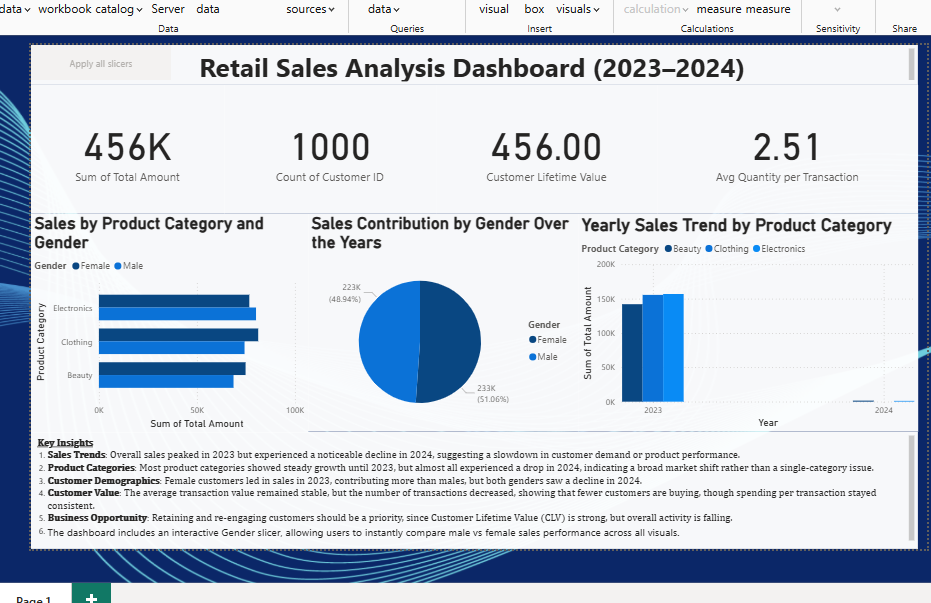

The page's visual inventory and layout, read from the dashboard file:
{"tool":"powerbi","page":{"name":"Page 1","canvas":[1280,720],"ordinal":0},"visuals":[{"type":"textbox","box":[0,0,1267.1,57.1],"z":0},{"type":"card","fields":{"Values":["Sum(retail_sales_clean.Total Amount)"]},"box":[0,57.1,275.7,184.3],"z":1000},{"type":"card","fields":{"Values":["CountNonNull(retail_sales_clean.Customer ID)"]},"box":[275.7,57.1,302.9,184.3],"z":2000},{"type":"clusteredColumnChart","title":"Yearly Sales Trend by Product Category","fields":{"Category":["retail_sales_clean.Year"],"Y":["Sum(retail_sales_clean.Total Amount)"],"Series":["retail_sales_clean.Product Category"]},"box":[781.4,241.4,485.7,311.4],"z":3000},{"type":"clusteredBarChart","title":"Sales by Product Category and Gender","fields":{"Y":["Sum(retail_sales_clean.Total Amount)"],"Category":["retail_sales_clean.Product Category"],"Series":["retail_sales_clean.Gender"]},"box":[0,241,396,312],"z":4000},{"type":"pieChart","title":"Sales Contribution by Gender Over the Years","fields":{"Y":["Sum(retail_sales_clean.Total Amount)"],"Category":["retail_sales_clean.Gender"]},"box":[395.7,241.4,385.7,311.4],"z":5000},{"type":"actionButton","box":[0,0,100,40],"z":6000},{"type":"card","fields":{"Values":["retail_sales_clean.Avg Quantity per Transaction"]},"box":[894.3,57.1,372.9,184.3],"z":7000},{"type":"card","fields":{"Values":["retail_sales_clean.Customer Lifetime Value"]},"box":[578.6,57.1,315.7,184.3],"z":8000},{"type":"textbox","box":[0,552.9,1267.1,167.1],"z":9000},{"type":"actionButton","box":[0,0,200,50],"z":9001},{"type":"actionButton","box":[0,0,200,50],"z":9002}]}

Visuals, with their boxes on the page's 1280x720 design canvas (x1, y1, x2, y2). These are canvas units, not pixel positions in the 931x603 screenshot, which may show the page scaled, cropped or inside an application window:
textbox: box(0, 0, 1267, 57)
card - Sum(retail_sales_clean.Total Amount): box(0, 57, 276, 241)
card - CountNonNull(retail_sales_clean.Customer ID): box(276, 57, 579, 241)
"Yearly Sales Trend by Product Category" clusteredColumnChart: box(781, 241, 1267, 553)
"Sales by Product Category and Gender" clusteredBarChart: box(0, 241, 396, 553)
"Sales Contribution by Gender Over the Years" pieChart: box(396, 241, 781, 553)
actionButton: box(0, 0, 100, 40)
card - retail_sales_clean.Avg Quantity per Transaction: box(894, 57, 1267, 241)
card - retail_sales_clean.Customer Lifetime Value: box(579, 57, 894, 241)
textbox: box(0, 553, 1267, 720)
actionButton: box(0, 0, 200, 50)
actionButton: box(0, 0, 200, 50)
